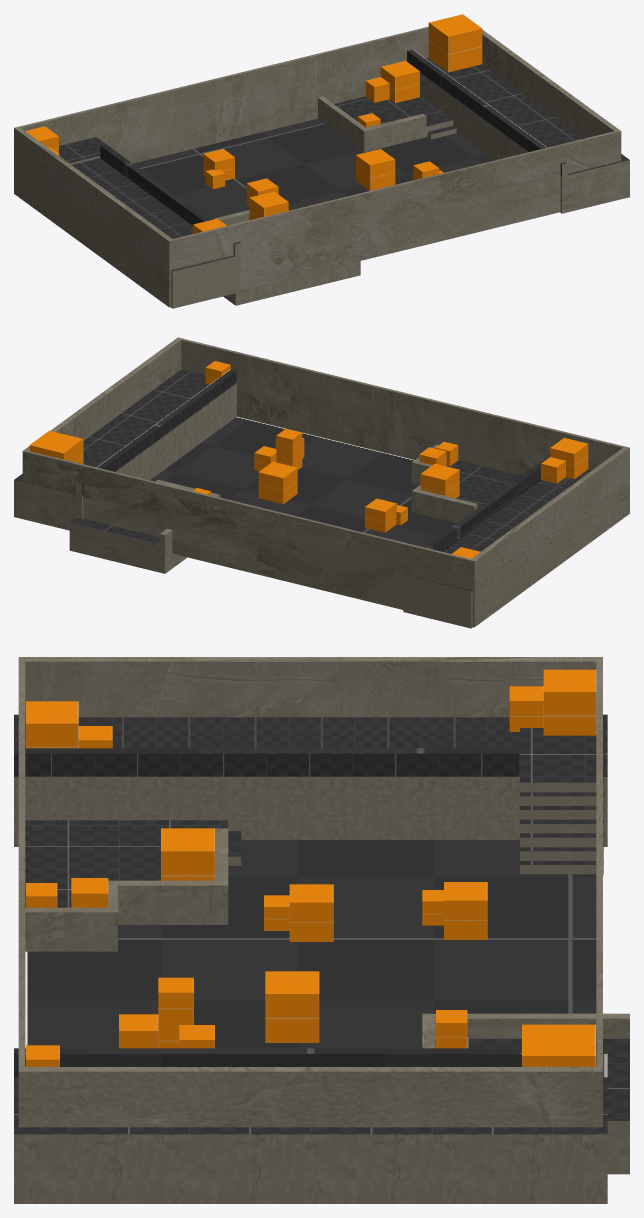
The picture shows the model from 3 angles, top to bottom: view 1: azimuth 30°, elevation 25°; view 2: azimuth 150°, elevation 25°; view 3: azimuth 270°, elevation 25°; orthographic projection. The views are drawn at different scales.
Visible parts, largest first — view 1: Plane, Cube, Cube.003, Cube.001, Cube.015, Cube.005, Cube.007, Cube.012, Cube.004, Cube.014, Cube.016, Cube.013 (+2 smaller); view 2: Plane, Cube, Cube.003, Cube.001, Cube.005, Cube.007, Cube.015, Cube.014, Cube.023, Cube.004, Cube.017, Cube.009 (+3 smaller); view 3: Plane, Cube.003, Cube, Cube.005, Cube.004, Cube.001, Cube.007, Cube.021, Cube.015, Cube.014, Cube.017, Cube.016 (+12 smaller).
Part boxes in pixels (x1,y1,x2,y2): Plane: [14, 26, 621, 307]; Cube: [407, 49, 629, 213]; Cube.003: [72, 144, 240, 308]; Cube.001: [318, 96, 453, 152]; Cube.015: [428, 14, 482, 72]; Cube.005: [214, 210, 360, 305]; Cube.007: [356, 149, 395, 190]; Cube.012: [380, 61, 419, 103]; Cube.004: [59, 137, 105, 164]; Cube.014: [249, 191, 288, 219]; Cube.016: [203, 149, 234, 180]; Cube.013: [365, 77, 389, 102]; Plane: [22, 337, 629, 627]; Cube: [14, 369, 236, 530]; Cube.003: [403, 455, 592, 628]; Cube.001: [69, 479, 220, 573]; Cube.005: [411, 444, 521, 522]; Cube.007: [258, 461, 297, 504]; Cube.015: [29, 430, 83, 463]; Cube.014: [420, 463, 459, 498]; Cube.023: [550, 438, 588, 479]; Cube.004: [367, 569, 457, 607]; Cube.017: [365, 498, 396, 532]; Cube.009: [276, 429, 302, 456]; Plane: [18, 657, 602, 1127]; Cube.003: [14, 714, 607, 846]; Cube: [14, 1048, 607, 1203]; Cube.005: [25, 820, 228, 951]; Cube.004: [520, 724, 603, 874]; Cube.001: [422, 1013, 629, 1174]; Cube.007: [265, 971, 319, 1042]; Cube.021: [543, 669, 596, 735]; Cube.015: [522, 1024, 595, 1066]; Cube.014: [161, 828, 214, 880]; Cube.017: [289, 884, 333, 941]; Cube.016: [444, 882, 487, 939].
Bounding box in the file's own units: 47.47 × 8.59 × 29.33.
3 materials, 3 textured.
